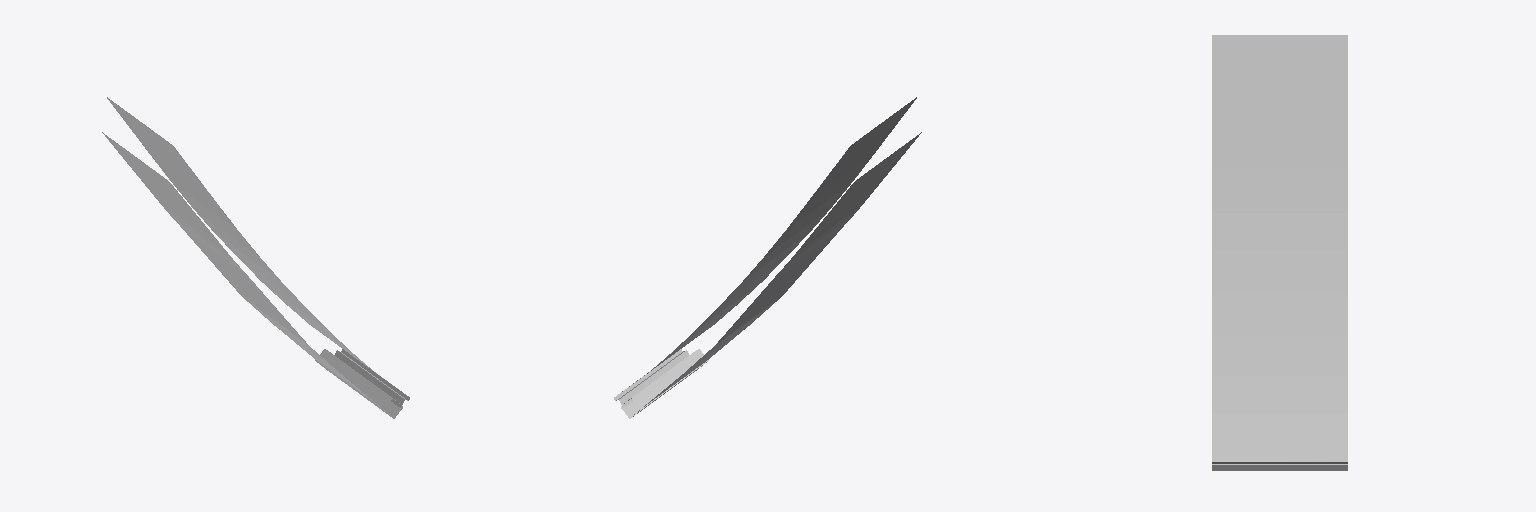
File: Roof_Modular_FlatTiles_6_Mid_Half.obj
The picture shows the model from 3 angles: view 1: azimuth 30°, elevation 25°; view 2: azimuth 150°, elevation 25°; view 3: azimuth 270°, elevation 25°; orthographic projection.
Parts seen in each view (by area): view 1: Roof_Modular_FlatTiles_6_Mid_Half; view 2: Roof_Modular_FlatTiles_6_Mid_Half; view 3: Roof_Modular_FlatTiles_6_Mid_Half.
Part boxes in pixels (x1,y1,x2,y2): Roof_Modular_FlatTiles_6_Mid_Half: (102, 97, 409, 418); Roof_Modular_FlatTiles_6_Mid_Half: (614, 97, 921, 418); Roof_Modular_FlatTiles_6_Mid_Half: (1212, 35, 1347, 470).
Bounding box in the file's own units: 4.1 × 5.32 × 2.